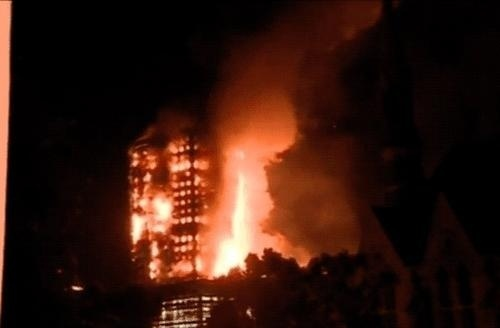fire: (127, 138, 255, 281)
